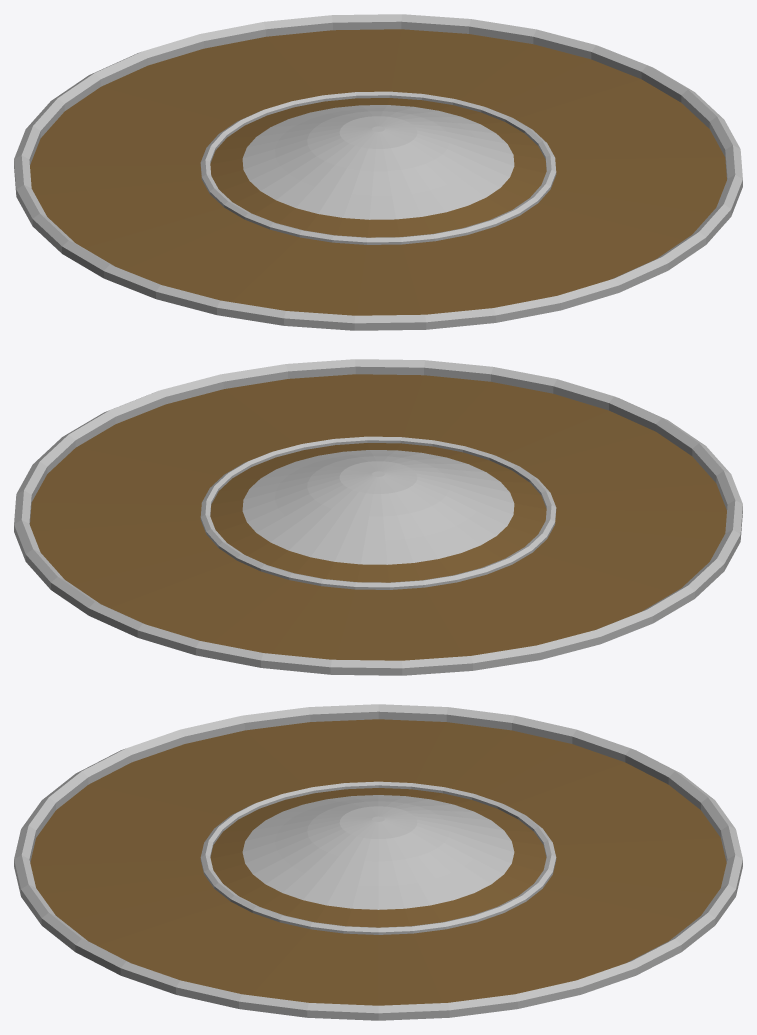
Rendered from buckler.fbx.
3 renders of one model, top to bottom at view 1: azimuth 30°, elevation 25°; view 2: azimuth 150°, elevation 25°; view 3: azimuth 270°, elevation 25°, orthographic.
Parts seen in each view (by area): view 1: Torus; view 2: Torus; view 3: Torus.
Boxes of the visible parts, x1,y1,x2,y2 form: Torus: (14,14,742,330); Torus: (14,359,742,675); Torus: (14,704,742,1020).
Bounding box in the file's own units: 200 × 27.78 × 200.
